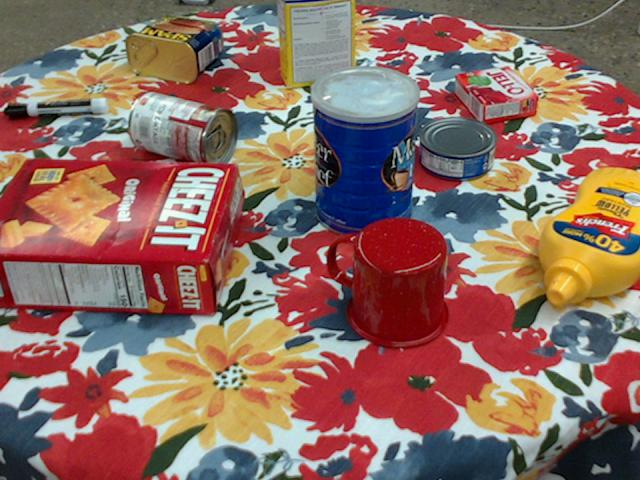cracker_box: (0, 158, 241, 314)
gelatin_box: (452, 68, 535, 125)
large_marker: (5, 97, 107, 117)
master_chef_can: (310, 66, 418, 240)
mug: (326, 217, 448, 349)
mustard_bottle: (538, 166, 639, 303)
potted_meat_can: (125, 14, 222, 82)
sugar_box: (278, 0, 355, 86)
tomato_soup_can: (127, 91, 236, 168)
tuna_fish_can: (418, 117, 496, 180)
